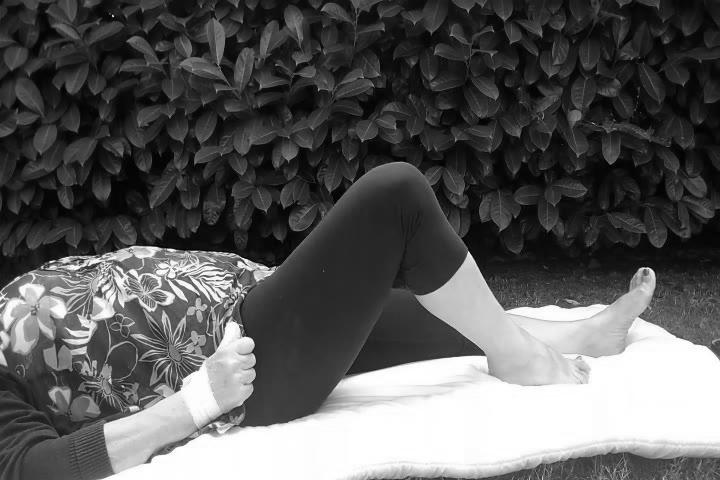lowerbody: (217, 155, 670, 441)
